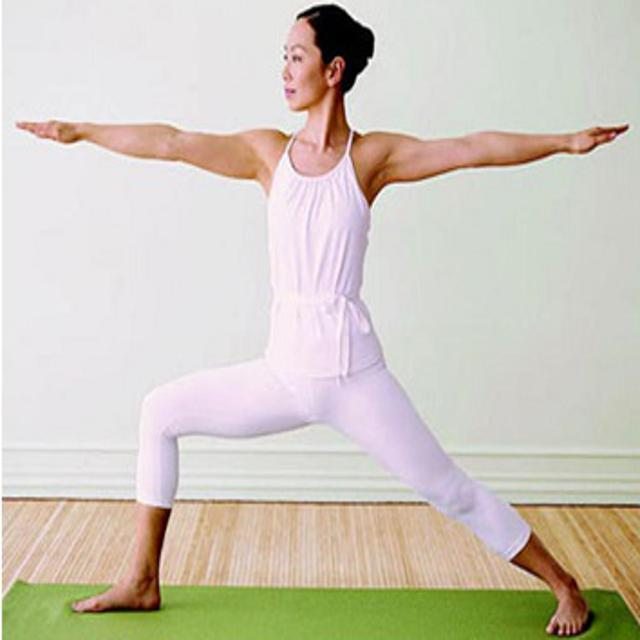Warrior_II: (10, 2, 630, 640)
